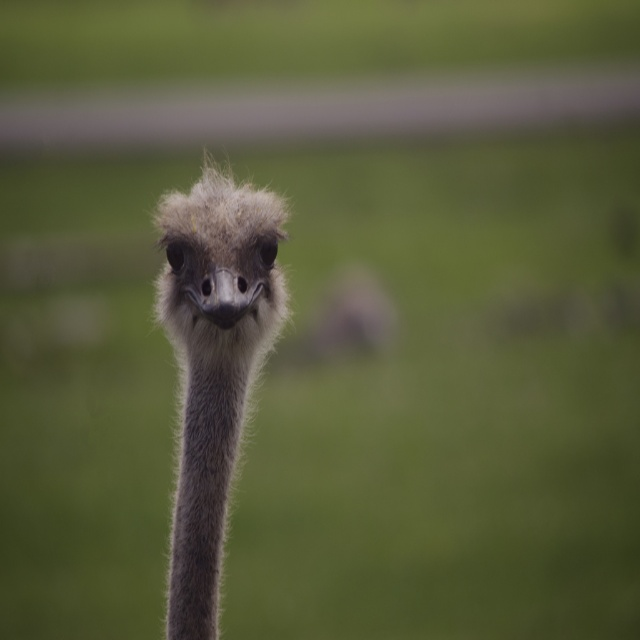Ostrich: (140, 161, 292, 638)
